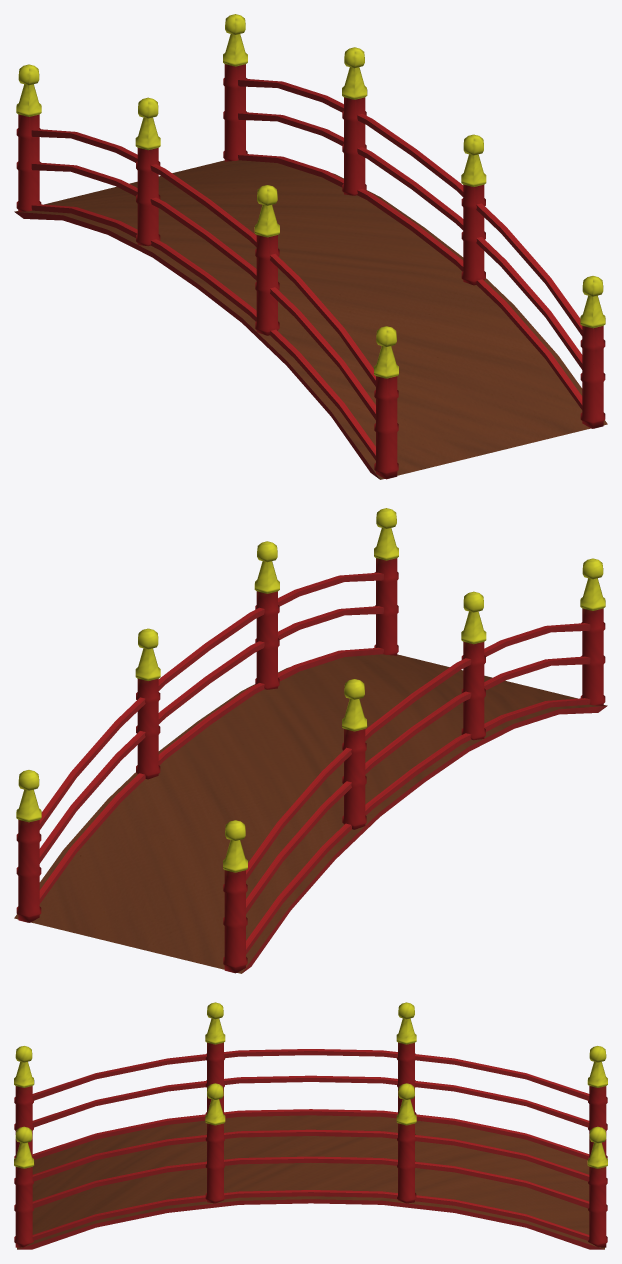
Rendered from Bridge.fbx.
3 views of the same model, one above another, from view 1: azimuth 30°, elevation 25°; view 2: azimuth 150°, elevation 25°; view 3: azimuth 270°, elevation 25° (orthographic). The views are drawn at different scales.
Visible parts, largest first — view 1: bridge; view 2: bridge; view 3: bridge.
Part boxes in pixels (x1,y1,x2,y2): bridge: [14, 14, 607, 479]; bridge: [14, 508, 607, 973]; bridge: [14, 1002, 607, 1249].
Bounding box in the file's own units: 89.74 × 74.49 × 248.
1 material, 1 textured.
